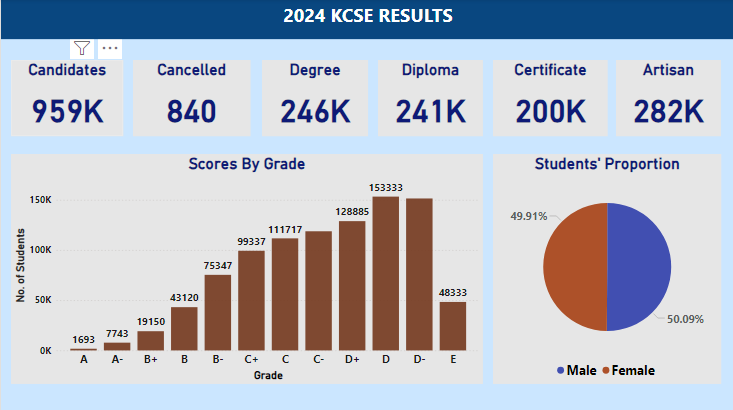

This screenshot's page, from the dashboard's own definition file:
{"tool":"powerbi","page":{"name":"Page 1","canvas":[1280,720],"ordinal":0},"visuals":[{"type":"card","title":"Degree","fields":{"Values":["KCSE RESULTS.degree"]},"box":[455,106.7,185,132.8],"z":0},{"type":"card","title":"Diploma","fields":{"Values":["KCSE RESULTS.diploma"]},"box":[657.4,106.7,182.9,132.8],"z":1000},{"type":"card","title":"Certificate","fields":{"Values":["KCSE RESULTS.Artisan"]},"box":[857.7,106.7,200.3,132.8],"z":2000},{"type":"card","title":"Artisan","fields":{"Values":["KCSE RESULTS.Craft Cert"]},"box":[1073.2,106.7,182.9,132.8],"z":3000},{"type":"card","title":"Candidates","fields":{"Values":["KCSE RESULTS.num_students"]},"box":[17.4,106.7,195.9,132.8],"z":4000},{"type":"textbox","box":[0,0,1280,69.7],"z":5000},{"type":"pieChart","title":"Students'' Proportion","fields":{"Y":["KCSE RESULTS.%_male","KCSE RESULTS.%_female"]},"box":[857.7,269.9,398.4,400.5],"z":6000},{"type":"lineClusteredColumnComboChart","title":"Scores By Grade","fields":{"Category":["KCSE RESULTS.Grade"],"Y":["Sum(KCSE RESULTS.Total)"]},"box":[17.4,269.9,822.9,400.5],"z":7000},{"type":"card","title":"Cancelled","fields":{"Values":["KCSE RESULTS.Cancelled"]},"box":[230.7,106.7,204.6,132.8],"z":8000}]}

Visuals, with their boxes in screenshot pixels (x1, y1, x2, y2), scaled from the page's 1280x720 canvas onto the 733x410 screenshot:
"Degree" card: crop(261, 61, 366, 136)
"Diploma" card: crop(376, 61, 481, 136)
"Certificate" card: crop(491, 61, 606, 136)
"Artisan" card: crop(615, 61, 719, 136)
"Candidates" card: crop(10, 61, 122, 136)
textbox: crop(0, 0, 732, 40)
"Students'' Proportion" pieChart: crop(491, 154, 719, 382)
"Scores By Grade" lineClusteredColumnComboChart: crop(10, 154, 481, 382)
"Cancelled" card: crop(132, 61, 249, 136)
